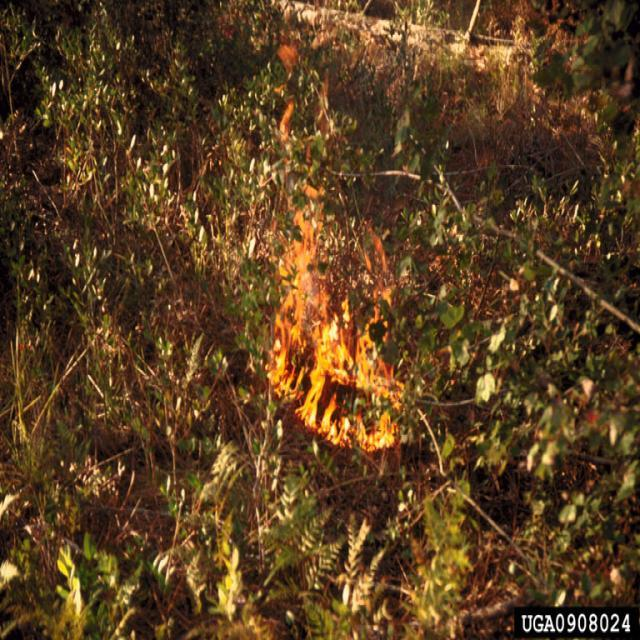Fire: (264, 42, 404, 456)
